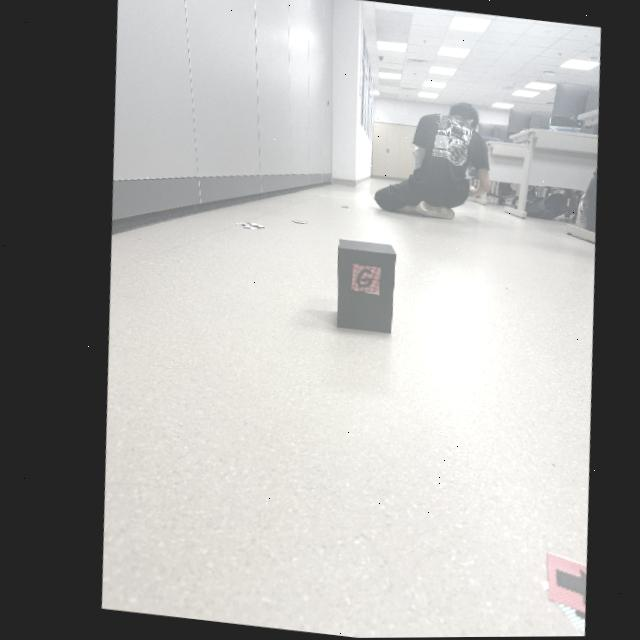G: (351, 269, 367, 288)
